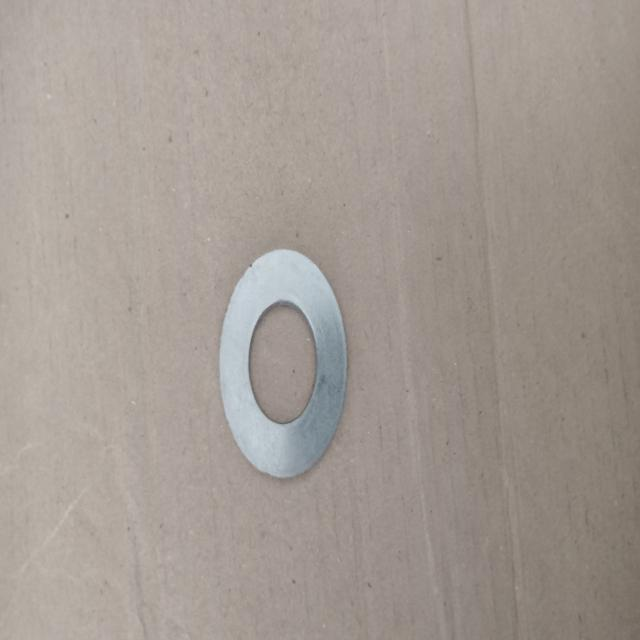washer: (218, 248, 348, 480)
